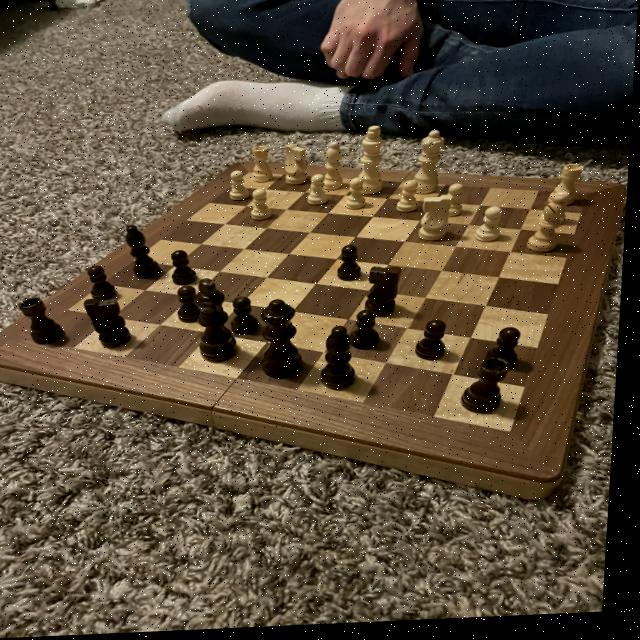bishop: (322, 327, 364, 397), (123, 222, 170, 283)
black-bishop: (194, 277, 249, 368)
black-king: (82, 295, 141, 354), (363, 264, 411, 324)
black-knight: (416, 321, 458, 366), (489, 330, 528, 378), (352, 311, 389, 355), (231, 296, 266, 341), (177, 284, 212, 328), (87, 265, 125, 304), (338, 245, 369, 288), (171, 249, 203, 289)
black-pawn: (258, 297, 314, 384)
black-queen: (462, 360, 518, 422), (15, 293, 74, 348)
black-rook: (528, 194, 575, 261), (322, 142, 350, 197)
white-bishop: (354, 128, 392, 202)
white-king: (419, 195, 458, 247), (282, 143, 314, 190)
white-knight: (541, 195, 574, 232), (476, 209, 508, 247), (444, 186, 469, 223), (398, 183, 424, 218), (347, 179, 372, 214), (252, 190, 277, 224), (230, 171, 255, 204), (308, 176, 332, 209)
white-pawn: (408, 132, 451, 200)
white-queen: (547, 166, 589, 215), (248, 144, 281, 188)
